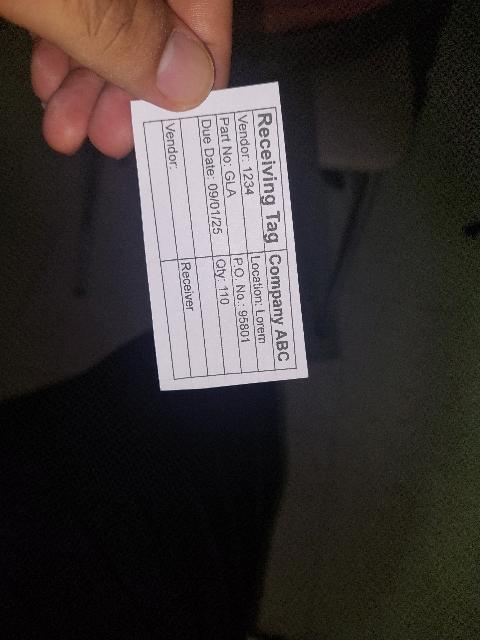PO no: (231, 254, 258, 372)
part no: (216, 112, 247, 254)
qty: (212, 255, 241, 374)
tags: (131, 82, 308, 390)
